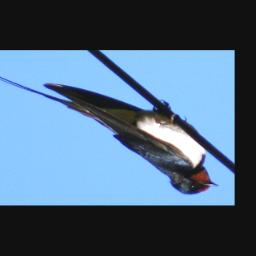Swallow: (0, 65, 220, 196)
